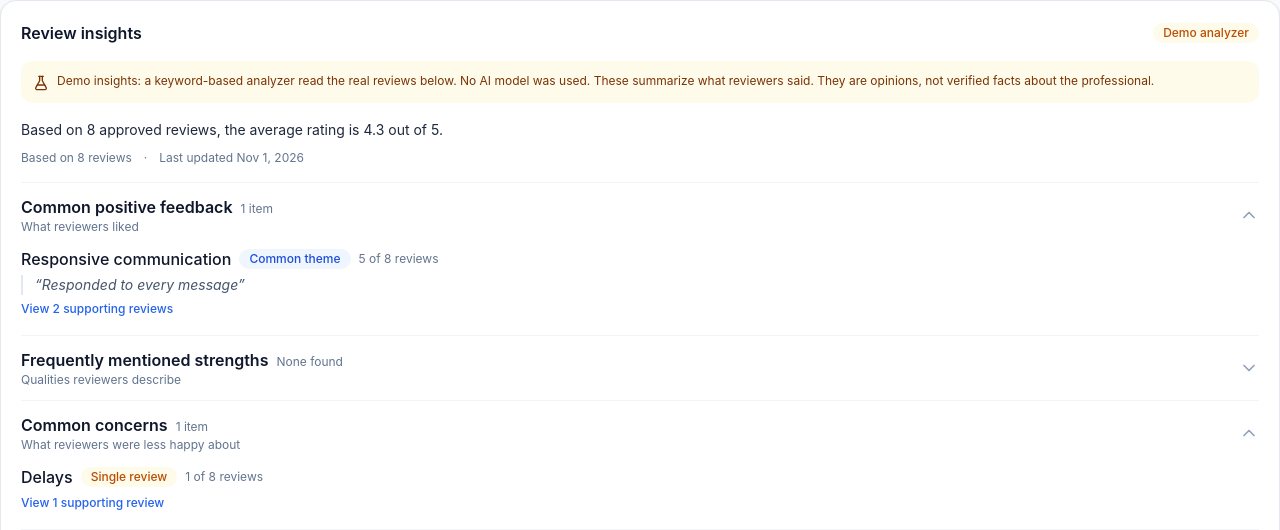
Scenario: supporting reviews are fetched from the sources endpoint when opened
Click the button "View 2 supporting reviews" at (97, 309), box [21,301,173,317]
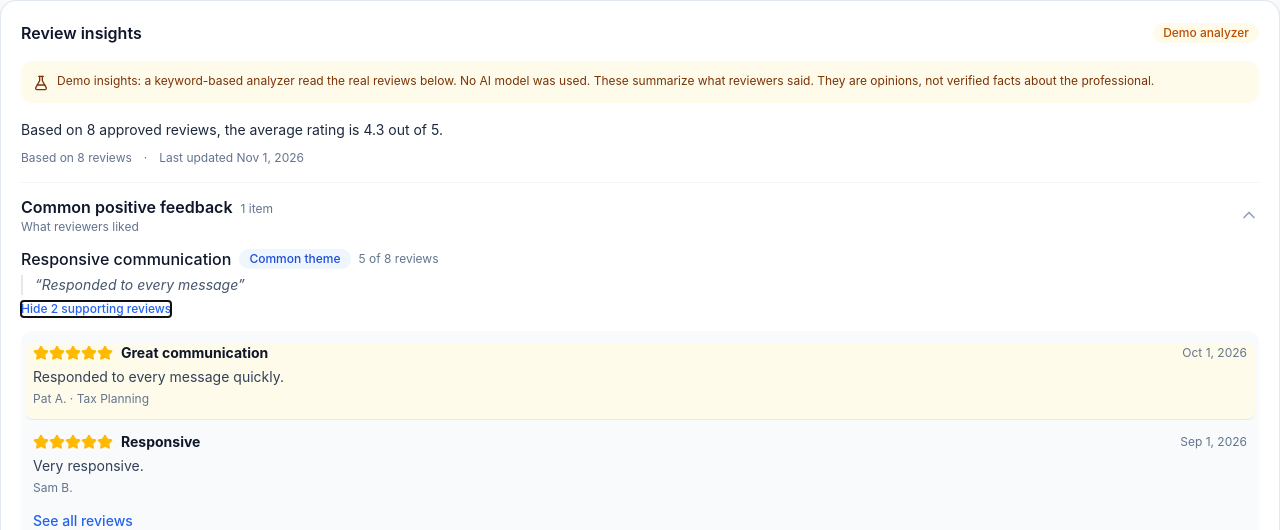
Now the text "Responded to every message quickly." is shown, box [33,368,284,385]
